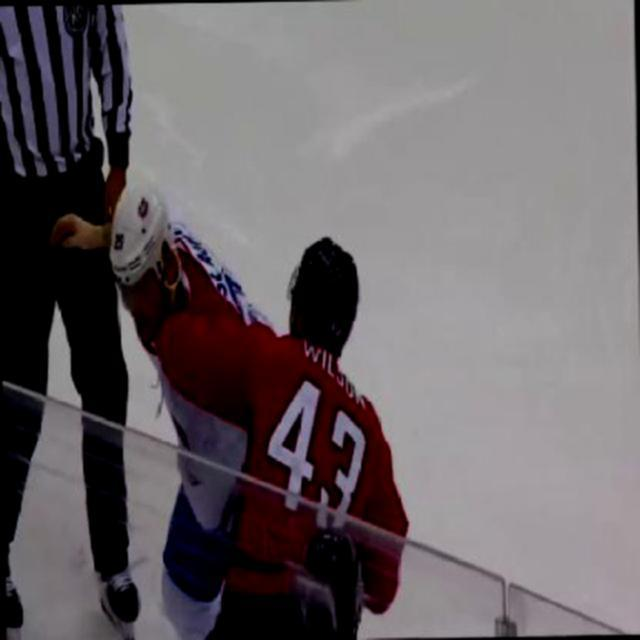fight: (43, 174, 400, 638)
